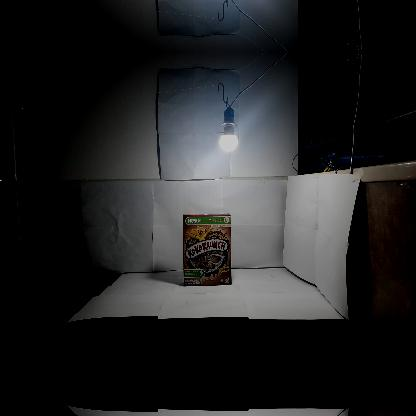Koko-Krunch: (182, 212, 232, 286)
